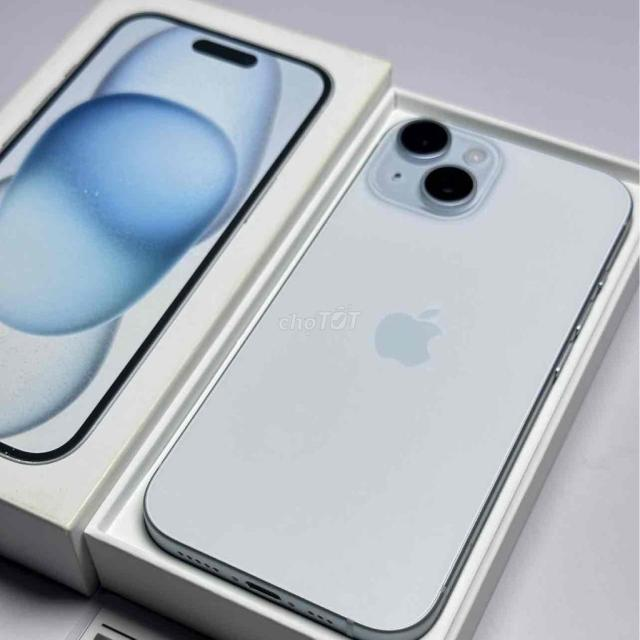gen_15: (134, 106, 637, 627)
